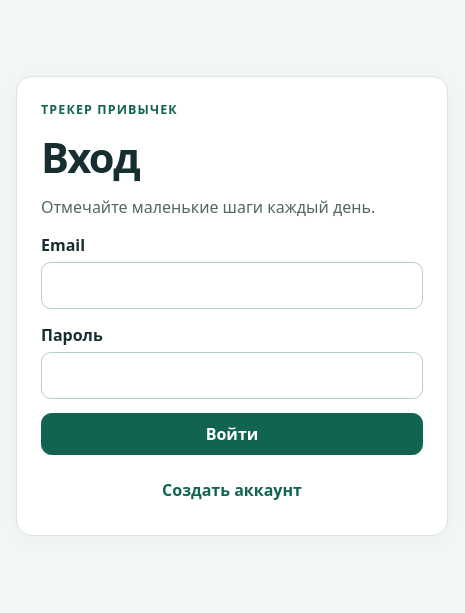
it: Авторизация › сохраняет email в форме входа при сбое после создания аккаунта
Step 1. Click the button "Создать аккаунт" → (232, 490), box x1=41 y1=469 x2=423 y2=511
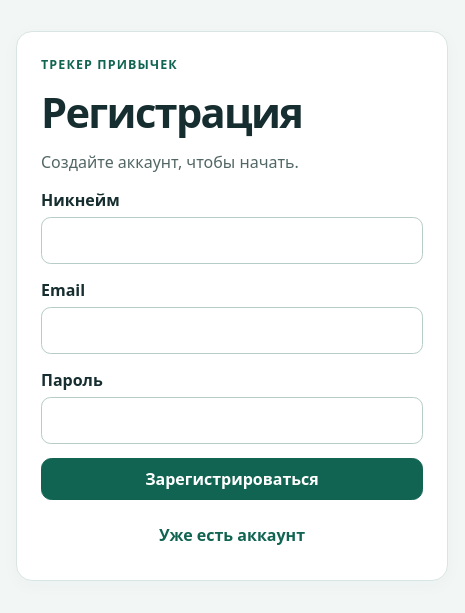
Step 2. Type "Читатель" into the field labelled "Никнейм" → (232, 240), box x1=41 y1=217 x2=423 y2=264
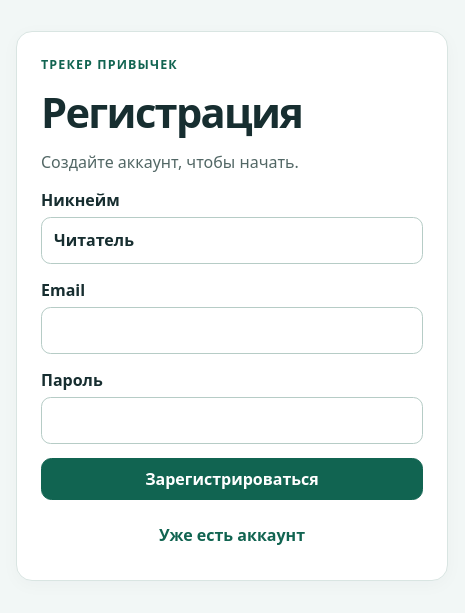
Step 3. Type "reader@example.test" into the field labelled "Email" → (232, 330), box x1=41 y1=307 x2=423 y2=354
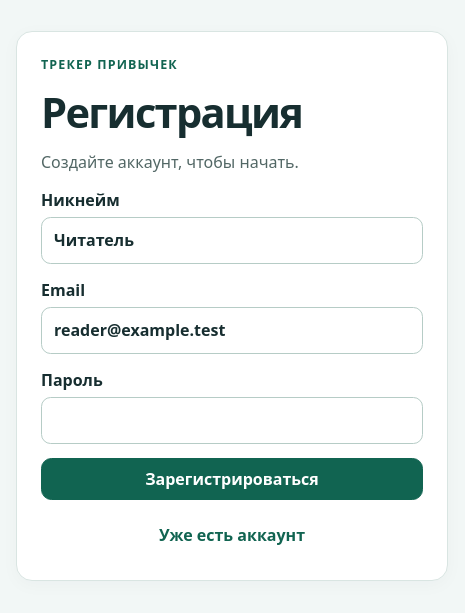
Step 4. Type "password" into the password field labelled "Пароль" → (232, 420), box x1=41 y1=397 x2=423 y2=444
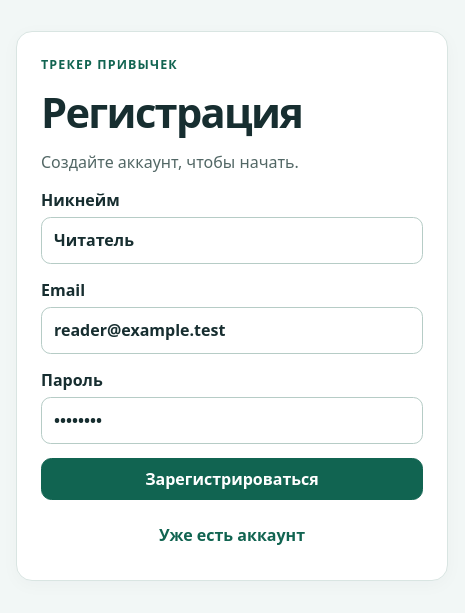
Step 5. Click the button "Зарегистрироваться" → (232, 479), box x1=41 y1=458 x2=423 y2=500
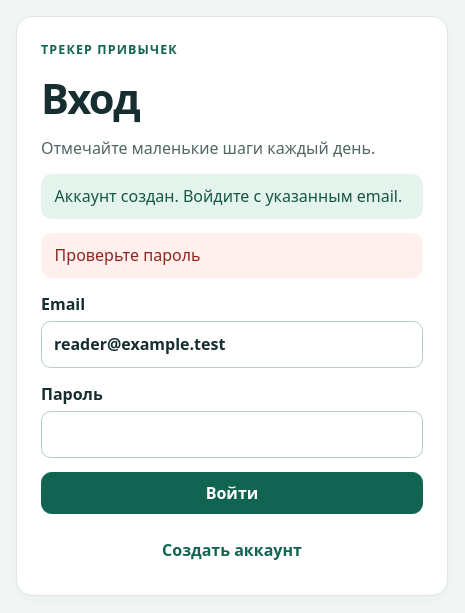
Now the text "Аккаунт создан. Войдите с указанным email." is shown, box x1=41 y1=174 x2=423 y2=219
Now the text "Проверьте пароль" is shown, box x1=41 y1=233 x2=423 y2=278
